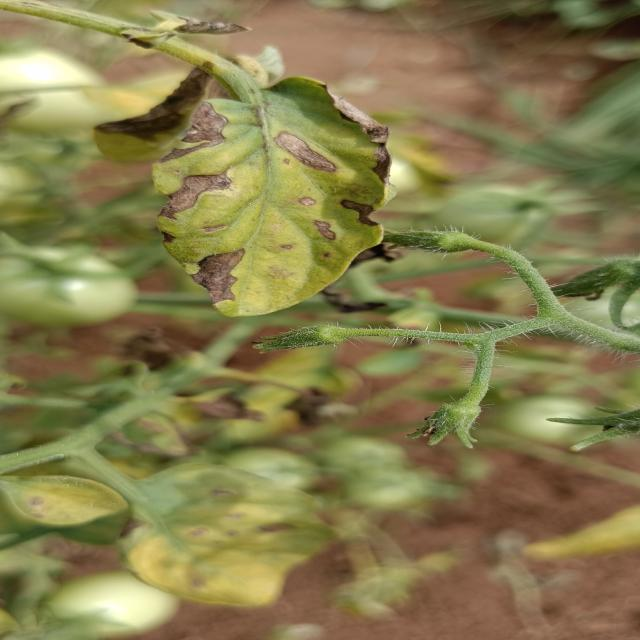tomato_early blight: (98, 62, 406, 315), (133, 466, 364, 616), (0, 473, 133, 527)
